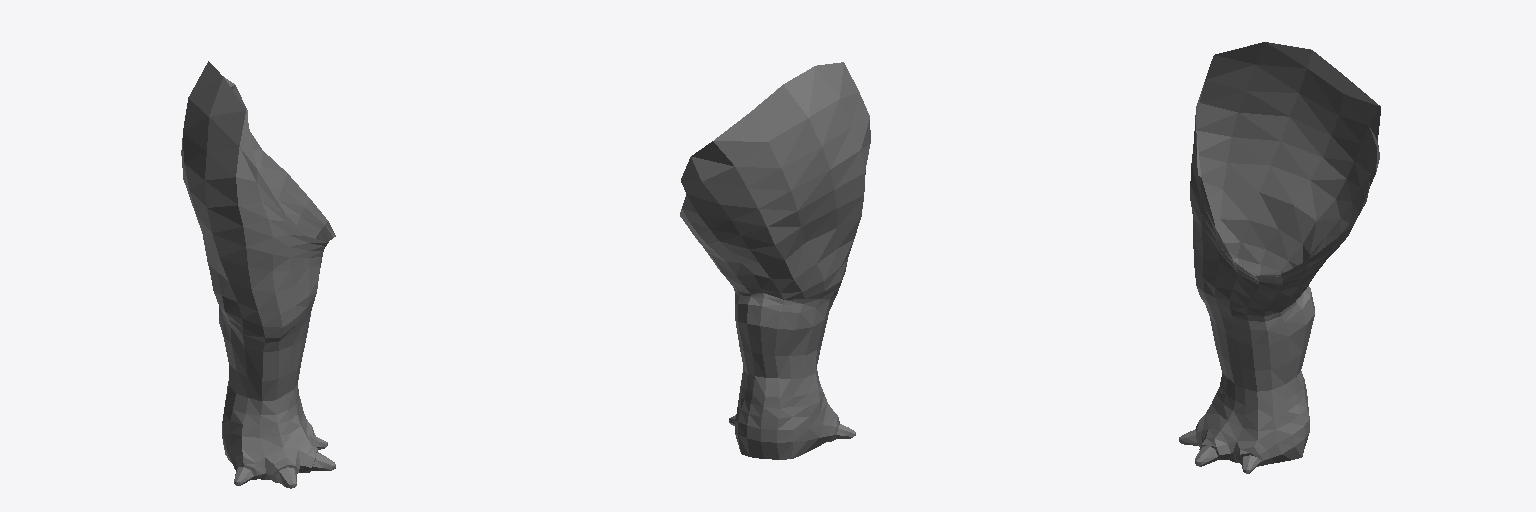
Rendered from PataTrasDer.obj.
3 views of the same model, side by side, from view 1: azimuth 30°, elevation 25°; view 2: azimuth 150°, elevation 25°; view 3: azimuth 270°, elevation 25° (orthographic).
Parts seen in each view (by area): view 1: PaTrasDer; view 2: PaTrasDer; view 3: PaTrasDer.
Part boxes in pixels (bbox=[...]): PaTrasDer: bbox=[181, 61, 335, 488]; PaTrasDer: bbox=[680, 62, 870, 459]; PaTrasDer: bbox=[1179, 42, 1380, 473].
Size of the model in its own units: 15.46 by 39.4 by 18.6.